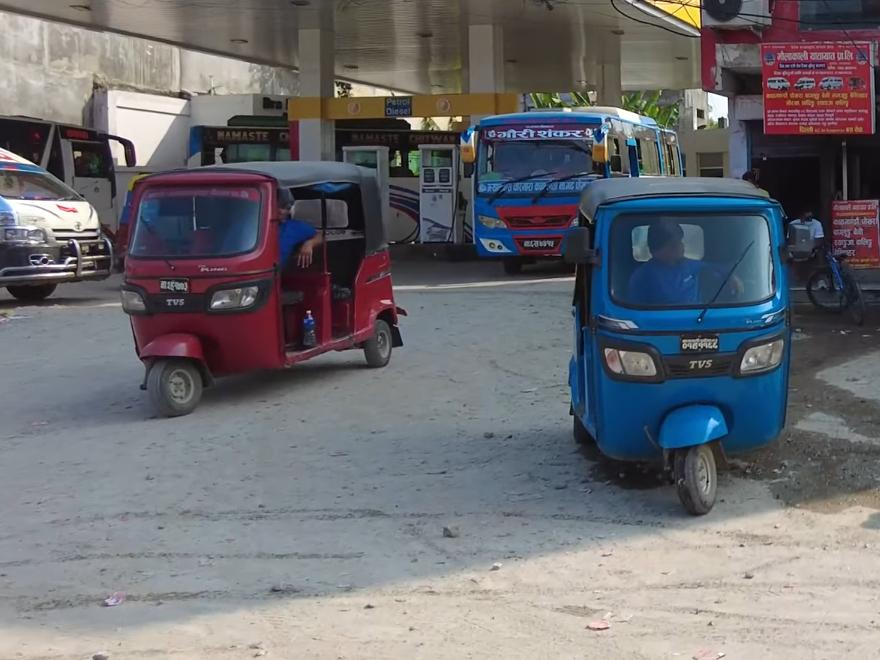auto_rickshaw: (544, 166, 807, 525), (116, 152, 418, 421)
bus: (474, 106, 687, 274)
micro_bus: (0, 139, 119, 312)
